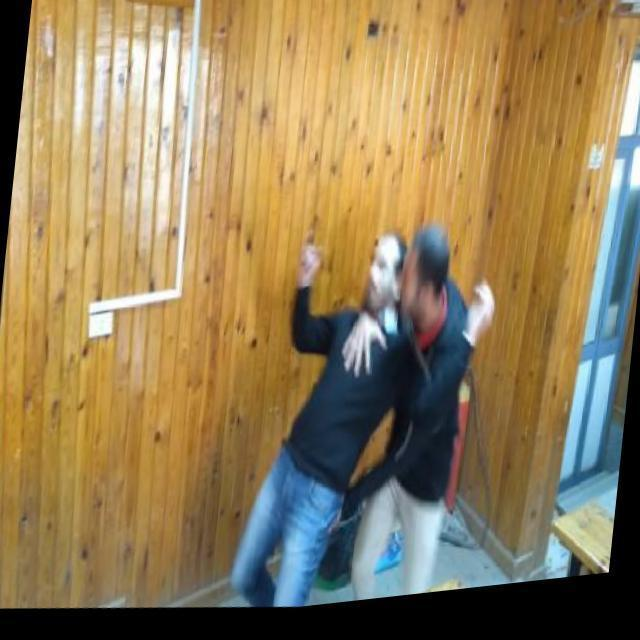fight: (244, 204, 495, 618)
